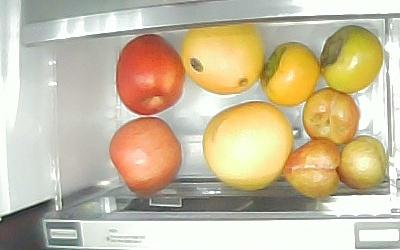apple: (108, 116, 182, 195), (115, 33, 185, 115)
grapefruit: (201, 101, 293, 191), (181, 24, 264, 95)
persimmon: (320, 25, 383, 93), (259, 41, 320, 107)
prune: (282, 138, 341, 199), (302, 86, 359, 146), (336, 135, 387, 188)
